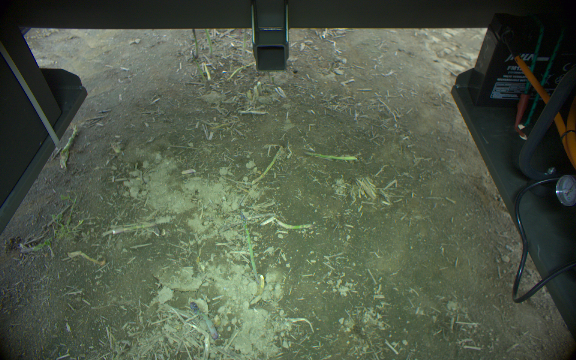aspa: (236, 210, 260, 282), (188, 299, 219, 341), (253, 144, 283, 187), (57, 123, 80, 169), (304, 148, 358, 163), (272, 215, 313, 230), (203, 28, 212, 57), (190, 28, 198, 56)
